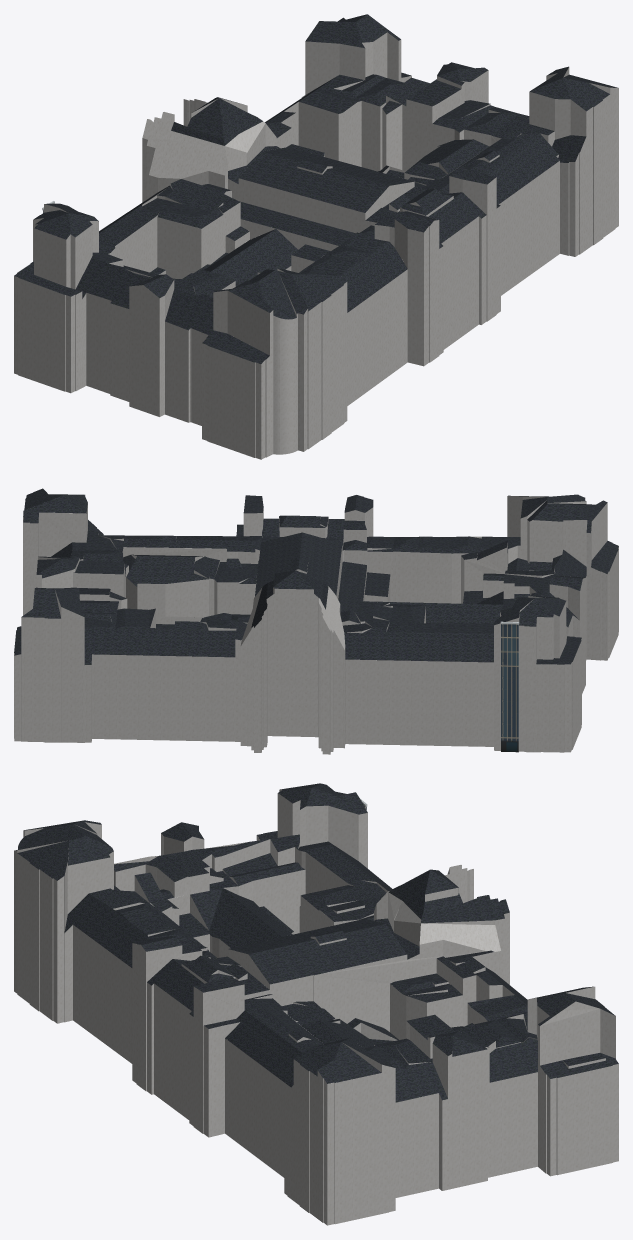
3 renders of one model, top to bottom at view 1: azimuth 30°, elevation 25°; view 2: azimuth 150°, elevation 25°; view 3: azimuth 270°, elevation 25°, orthographic. The views are drawn at different scales.
Parts seen in each view (by area): view 1: bldg_6005471348, bldg_6005471348_roof; view 2: bldg_6005471348, bldg_6005471348_roof, bldg_6005471348_facade4; view 3: bldg_6005471348, bldg_6005471348_roof.
Part boxes in pixels (x1=…): bldg_6005471348: x1=14, y1=32, x2=618, y2=459; bldg_6005471348_roof: x1=14, y1=14, x2=617, y2=363; bldg_6005471348: x1=14, y1=494, x2=618, y2=754; bldg_6005471348_roof: x1=14, y1=488, x2=618, y2=664; bldg_6005471348_facade4: x1=500, y1=621, x2=519, y2=752; bldg_6005471348: x1=14, y1=789, x2=618, y2=1225; bldg_6005471348_roof: x1=16, y1=783, x2=618, y2=1102.
Bounding box in the file's own units: 129 × 35.9 × 109.
Materials: 5 (3 with a texture image).
